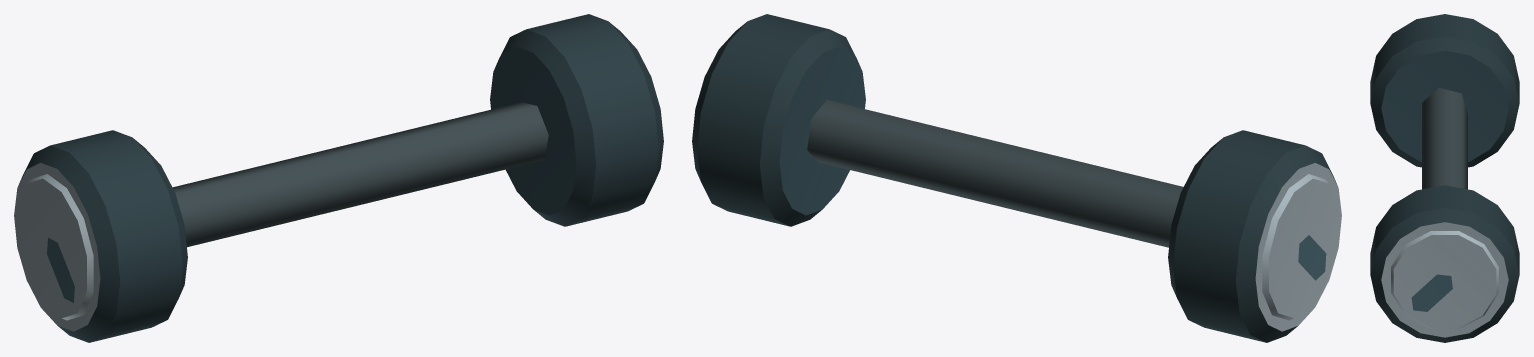
The model's file is Delivery_drone_002_wheels_001.fbx.
3 renders of one model, left to right at view 1: azimuth 30°, elevation 25°; view 2: azimuth 150°, elevation 25°; view 3: azimuth 270°, elevation 25°, orthographic. The views are drawn at different scales.
Parts seen in each view (by area): view 1: Delivery_drone_002_wheels_001; view 2: Delivery_drone_002_wheels_001; view 3: Delivery_drone_002_wheels_001.
Part boxes in pixels (bbox=[...]): Delivery_drone_002_wheels_001: bbox=[14, 14, 663, 342]; Delivery_drone_002_wheels_001: bbox=[692, 14, 1341, 342]; Delivery_drone_002_wheels_001: bbox=[1370, 14, 1519, 342].
Bounding box in the file's own units: 69.12 × 21.1 × 21.1.
